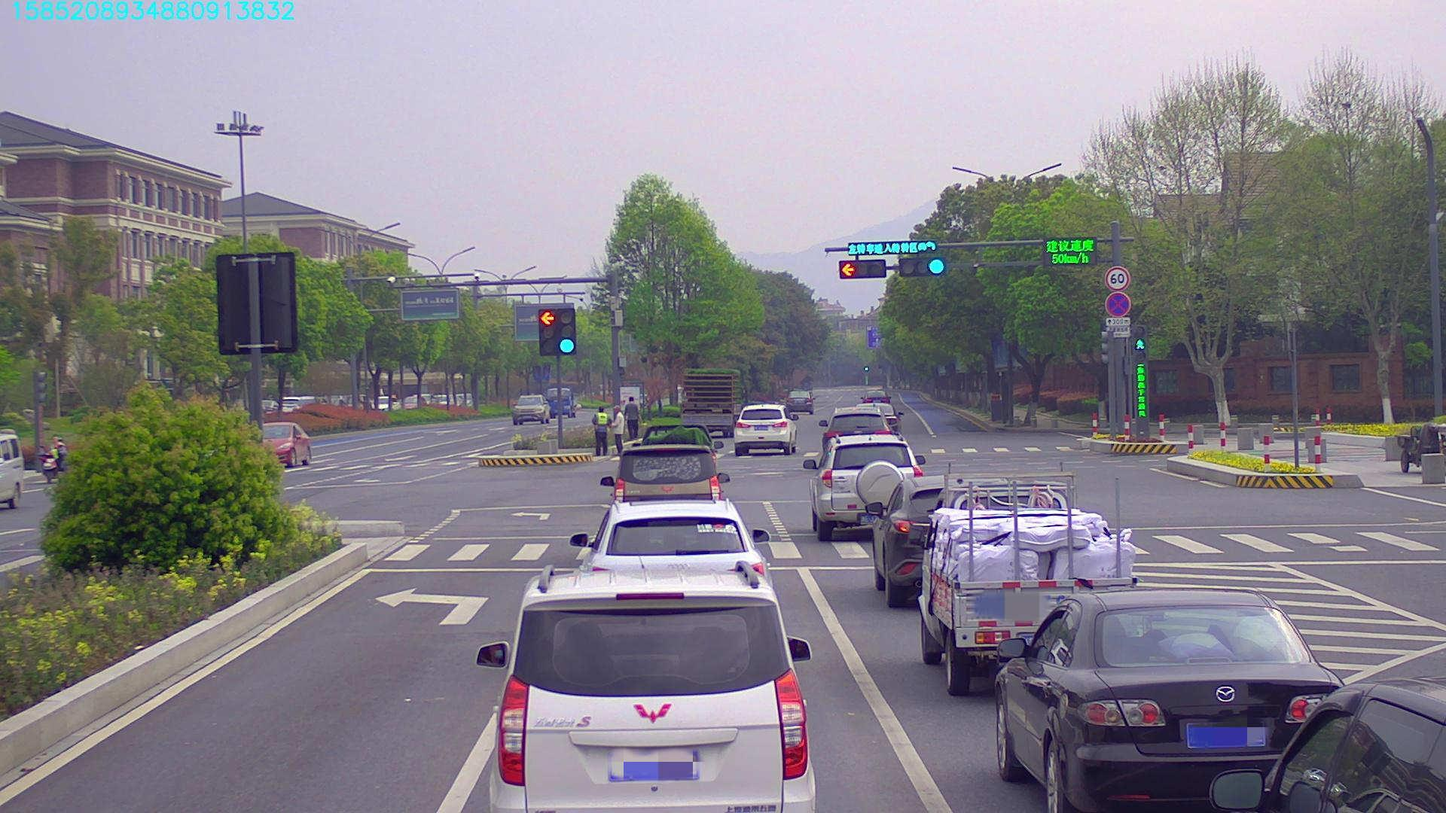green: (898, 254, 943, 275)
red: (835, 260, 889, 279)
wait_on: (848, 239, 935, 253)
